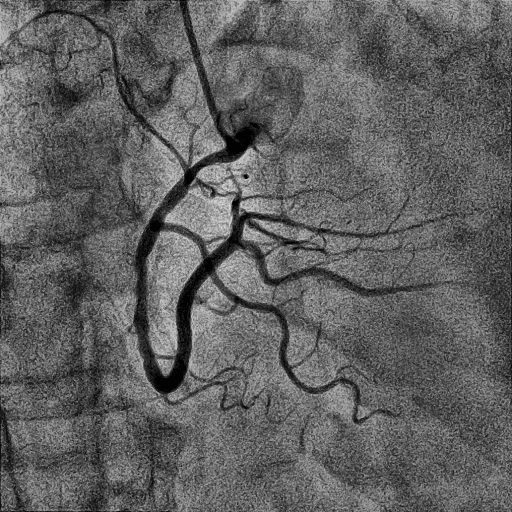pborca: (231, 212, 422, 238)
pda: (243, 239, 451, 297)
rca: (134, 135, 248, 394)
